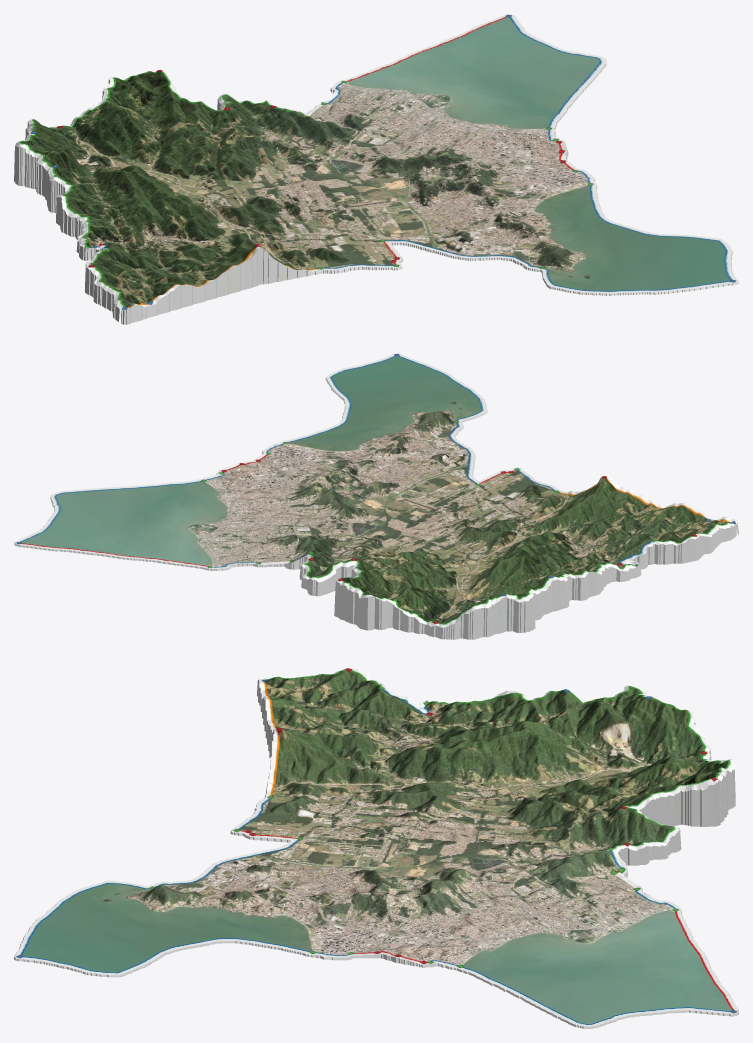
3 renders of one model, top to bottom at view 1: azimuth 30°, elevation 25°; view 2: azimuth 150°, elevation 25°; view 3: azimuth 270°, elevation 25°, orthographic. The views are drawn at different scales.
Size of the model in its own units: 0.9993 by 0.0629 by 0.9099.
1 material, 1 textured.
